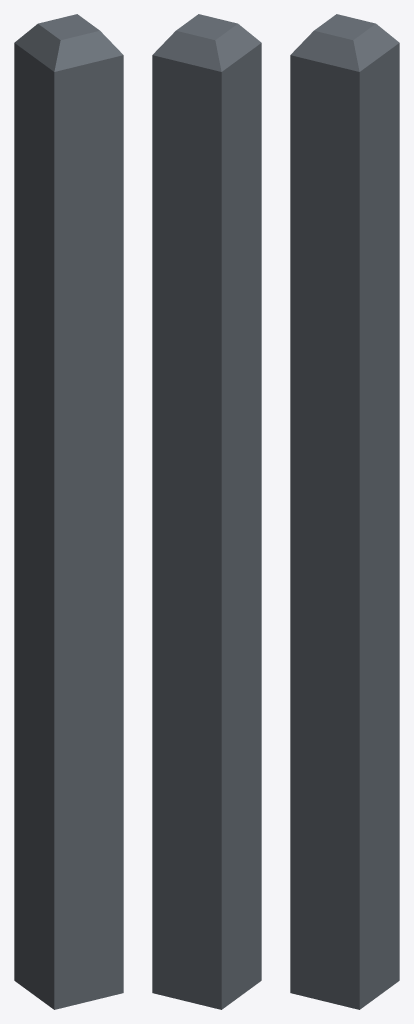
The model's file is CubicalWall_Pillar_01.FBX.
3 views of the same model, side by side, from view 1: azimuth 30°, elevation 25°; view 2: azimuth 150°, elevation 25°; view 3: azimuth 330°, elevation 25° (orthographic).
Visible parts, largest first — view 1: CubicalWall_Pillar_01; view 2: CubicalWall_Pillar_01; view 3: CubicalWall_Pillar_01.
Part boxes in pixels (<box>): CubicalWall_Pillar_01: <box>14,14,123,1009</box>; CubicalWall_Pillar_01: <box>152,14,261,1009</box>; CubicalWall_Pillar_01: <box>290,14,399,1009</box>.
Size of the model in its own units: 10.65 by 141 by 10.65.
